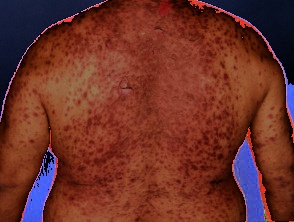SJS-TEN: (0, 0, 278, 222)
